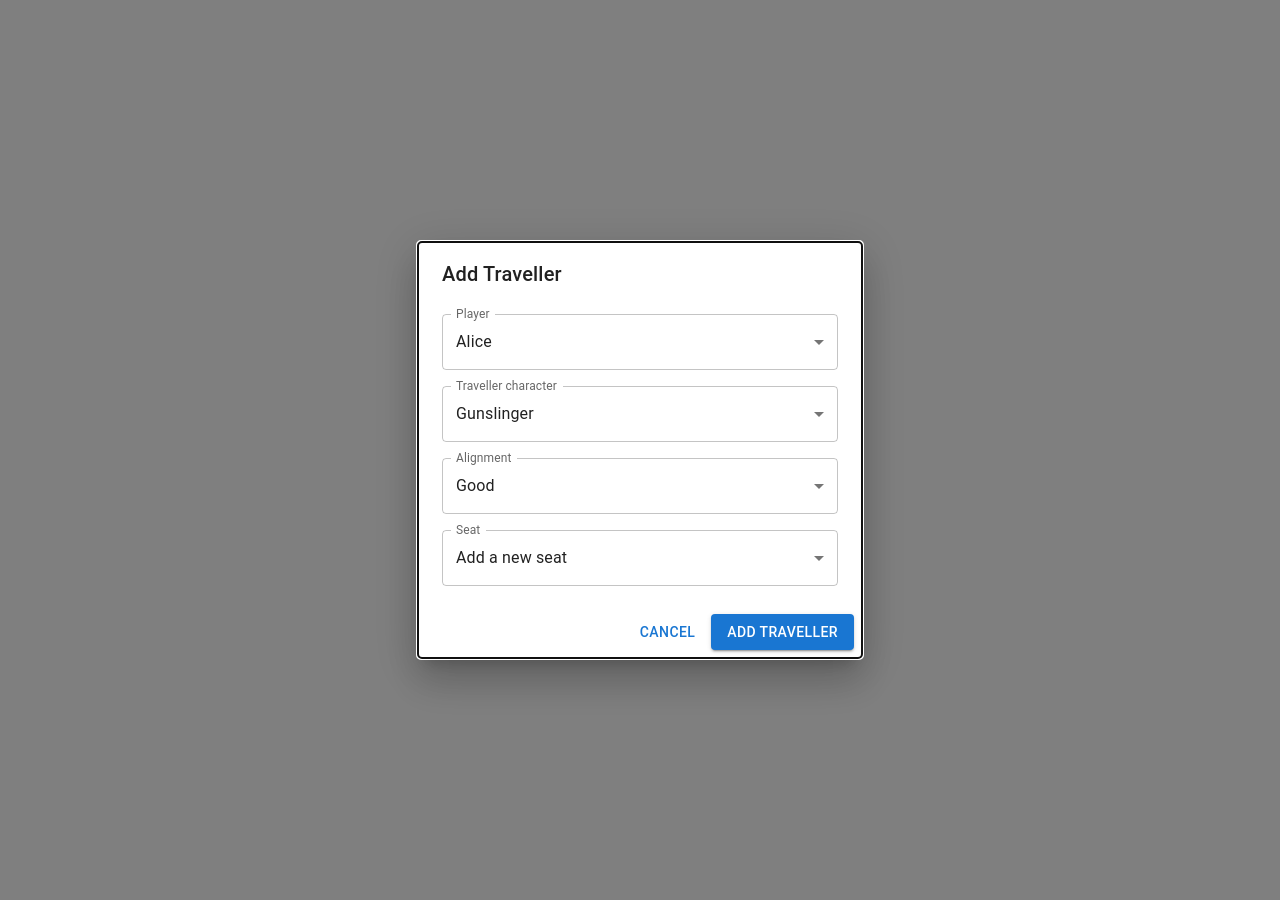
Test: AddTravellerDialog › shows icons and descriptions while excluding Travellers already in play
Press the mouse on the dropdown named "Traveller character" at (495, 414), box [456, 404, 534, 423]
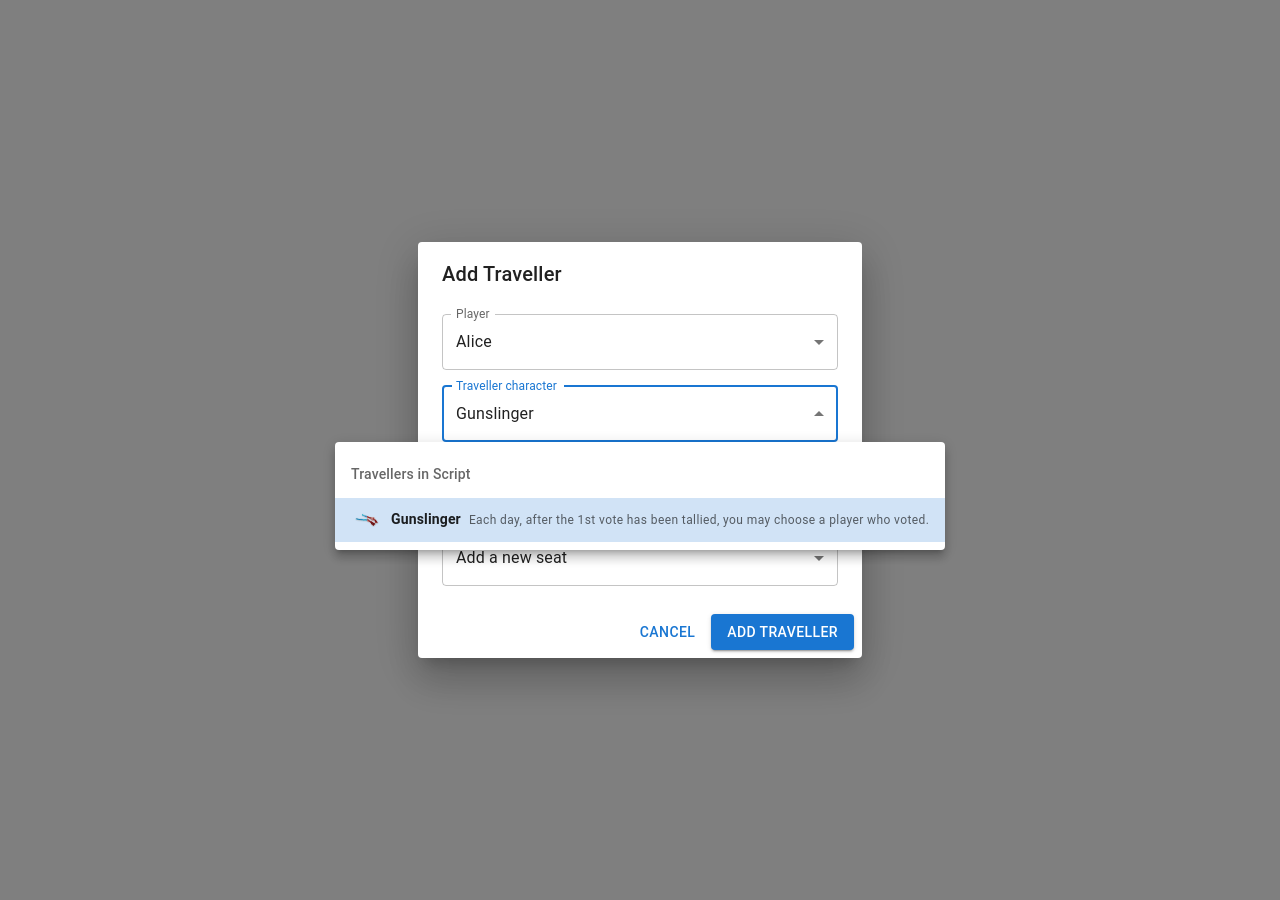
Result: the picture named "Gunslinger" is shown at [351, 504, 383, 536]
Result: the text "Each day, after the 1st vote" is shown at [469, 513, 929, 527]
